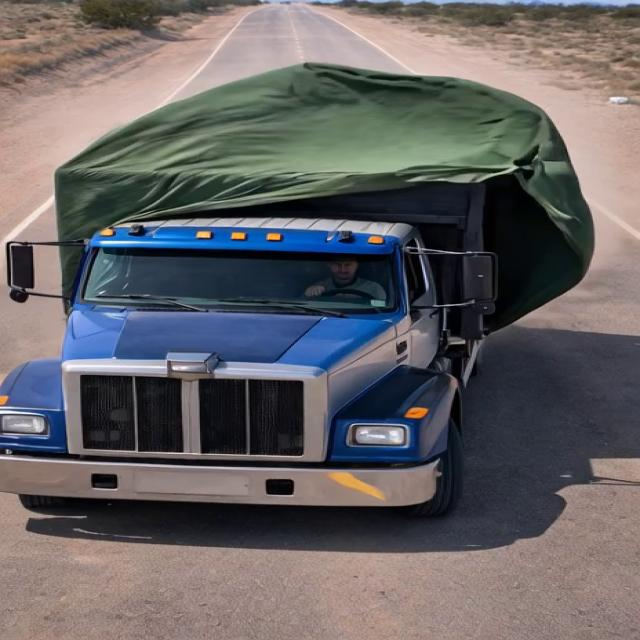Box: (48, 59, 558, 226)
Truck: (4, 38, 590, 534)
